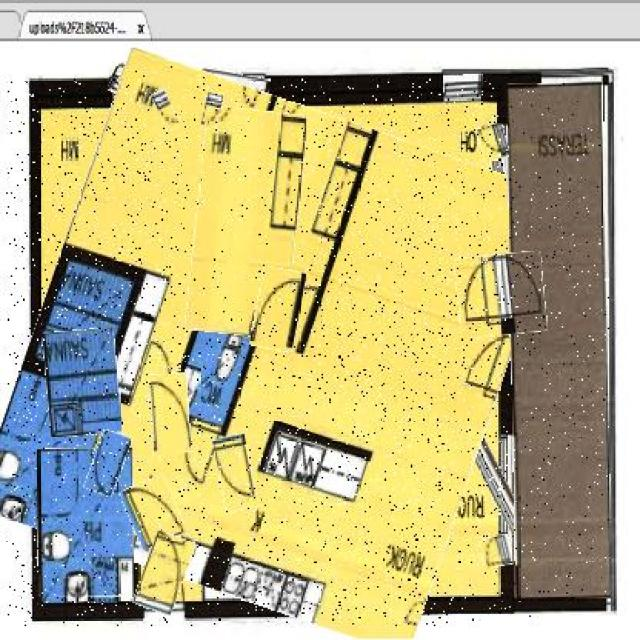door: (456, 252, 546, 337), (138, 532, 191, 614), (254, 268, 303, 350), (125, 477, 182, 546), (151, 374, 191, 452), (215, 436, 254, 512), (88, 431, 126, 495), (478, 125, 508, 162), (480, 535, 512, 568), (156, 91, 176, 131), (202, 94, 222, 129)
window: (483, 436, 531, 566), (491, 124, 515, 256), (111, 66, 178, 111), (198, 71, 268, 106), (445, 75, 483, 108)
zone: (6, 79, 532, 626), (509, 83, 609, 599), (189, 108, 302, 337), (38, 449, 134, 597), (46, 329, 120, 437)
